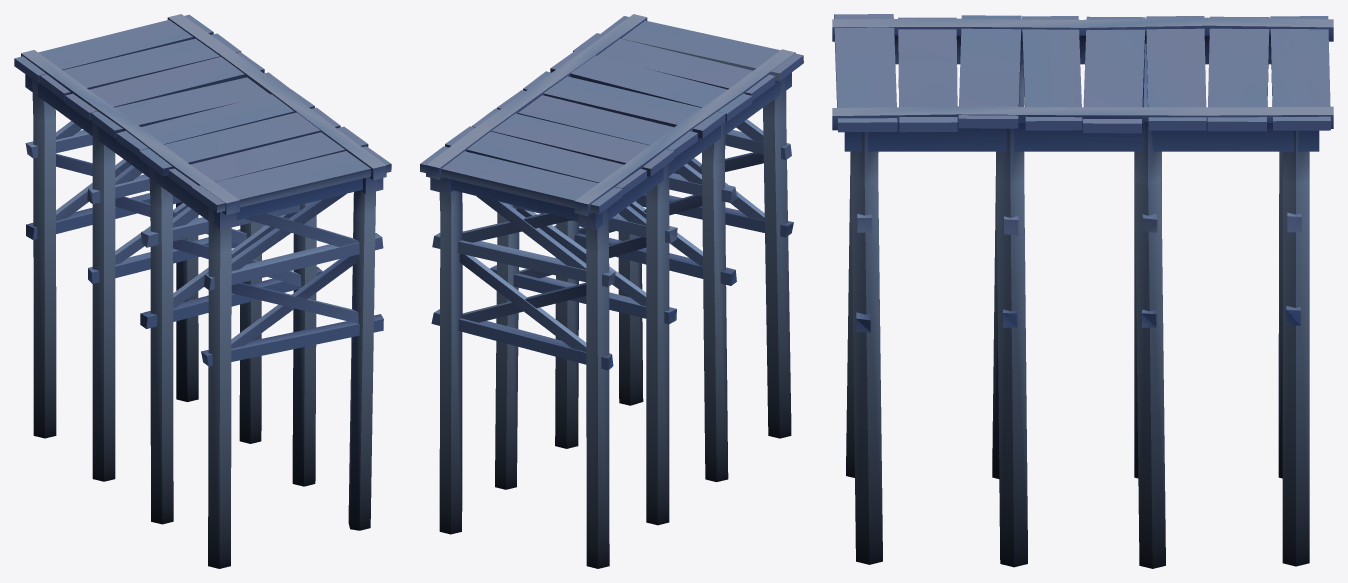
Rendered from BridgeLarge.gltf.
3 renders of one model, left to right at view 1: azimuth 30°, elevation 25°; view 2: azimuth 150°, elevation 25°; view 3: azimuth 270°, elevation 25°, orthographic. The views are drawn at different scales.
Visible parts, largest first — view 1: BridgeLargeMesh; view 2: BridgeLargeMesh; view 3: BridgeLargeMesh.
Boxes of the visible parts, <box> form: BridgeLargeMesh: <box>14,14,391,568</box>; BridgeLargeMesh: <box>420,14,803,568</box>; BridgeLargeMesh: <box>832,14,1333,568</box>.
Bounding box in the file's own units: 5.2 × 10.05 × 10.11.
